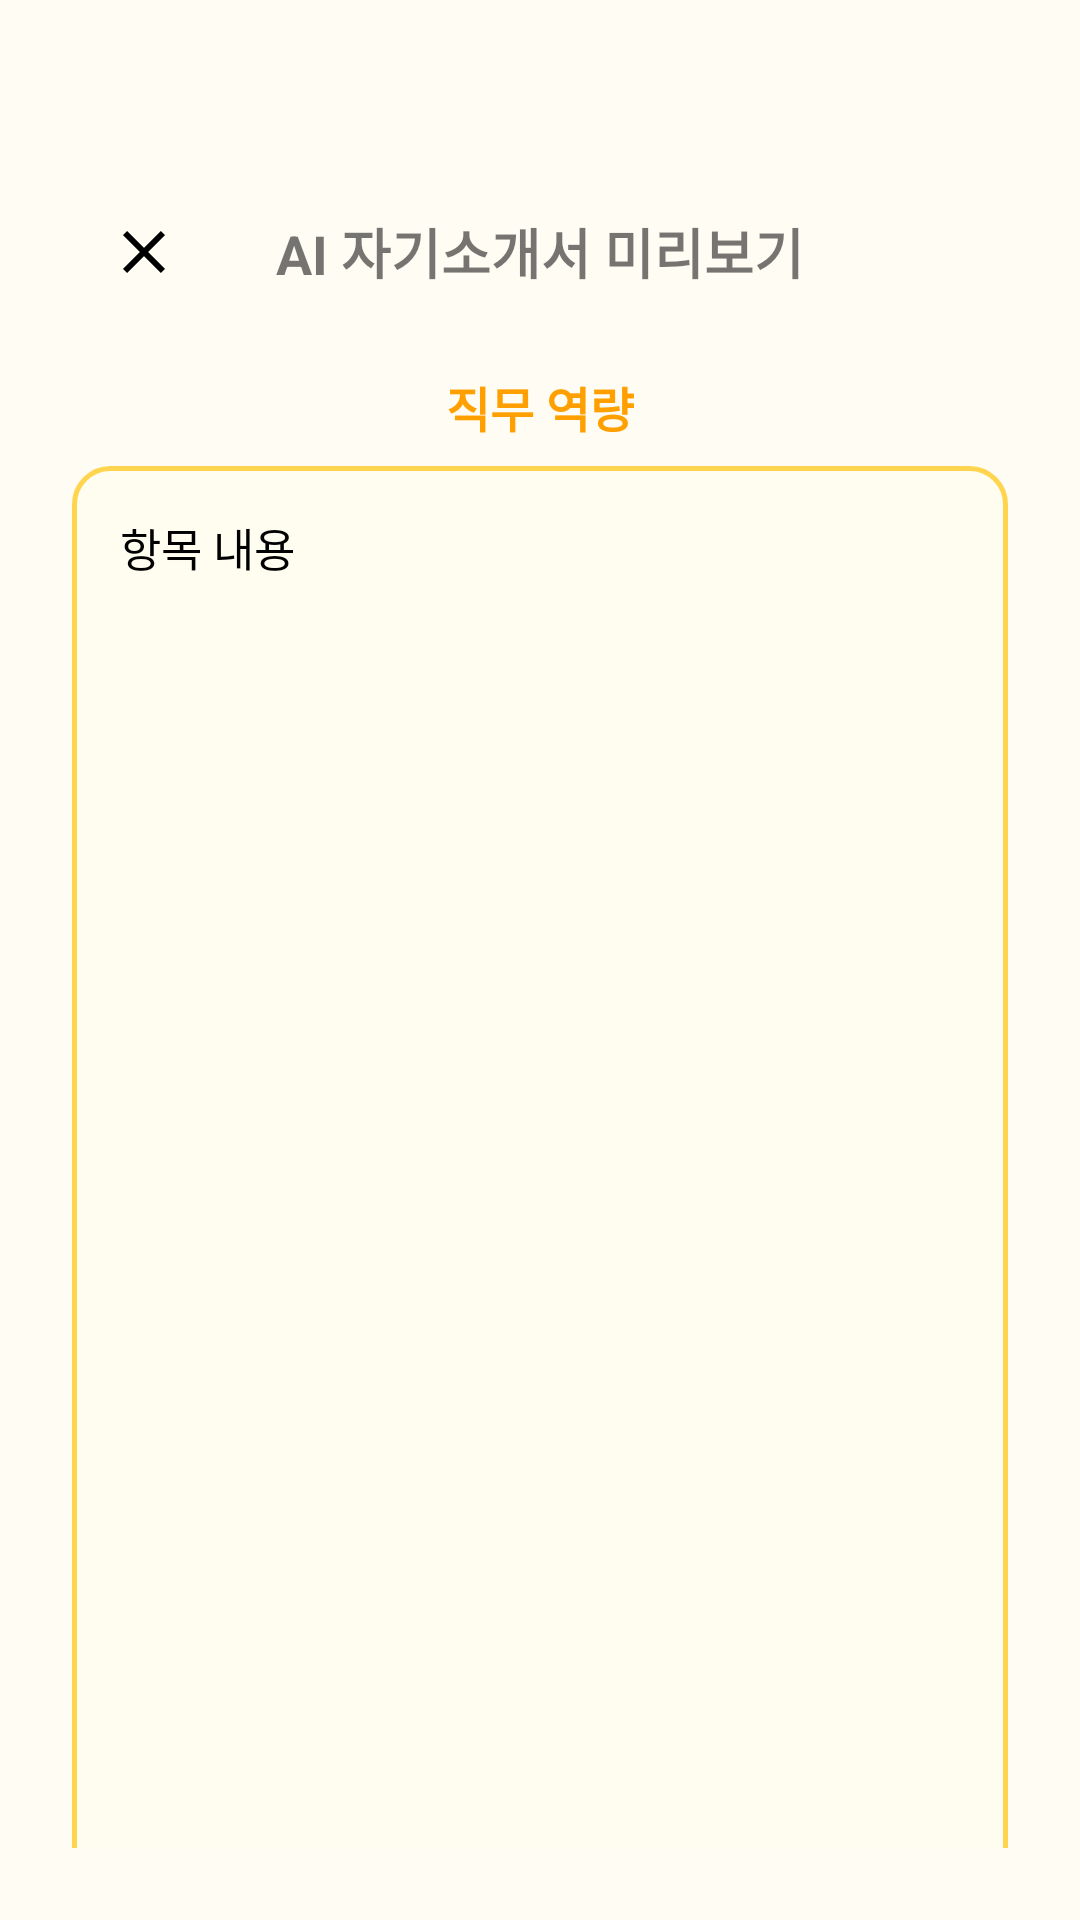

Locate icon controls on the screen. Image size 1080 x 1920, boxes as (x1, y1, x2, y2).
닫기: (123, 231, 165, 273)
